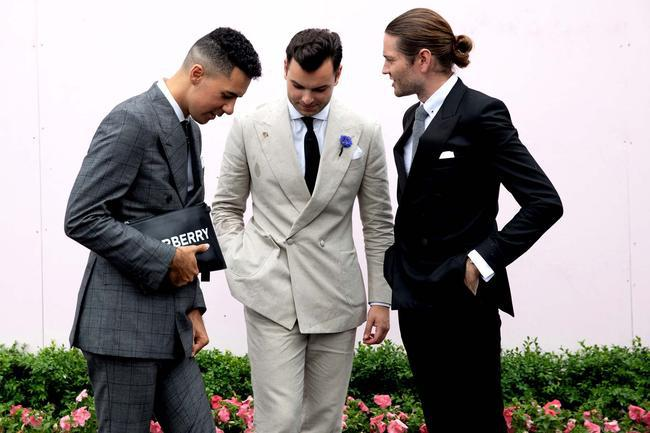Person: (65, 27, 261, 433), (382, 8, 563, 433), (260, 23, 382, 433)
